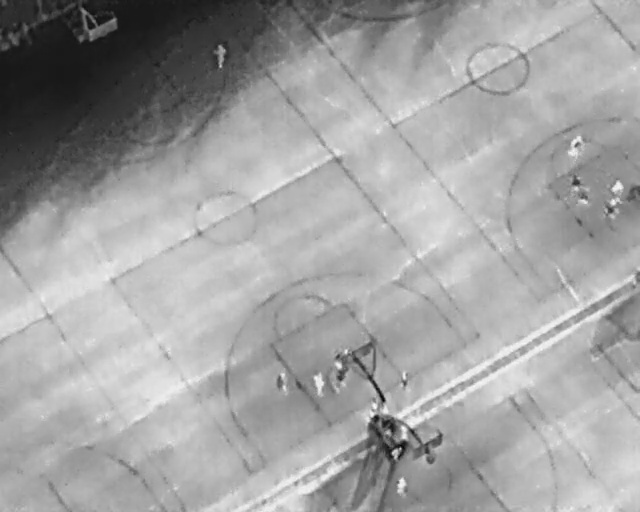Person: (599, 195, 623, 221), (565, 133, 588, 159), (332, 362, 348, 392), (213, 43, 227, 70), (312, 371, 326, 396), (395, 476, 410, 499), (574, 188, 592, 207), (274, 372, 289, 393), (609, 178, 625, 197), (334, 347, 353, 363), (398, 422, 411, 442), (398, 370, 410, 391), (568, 174, 582, 190)
